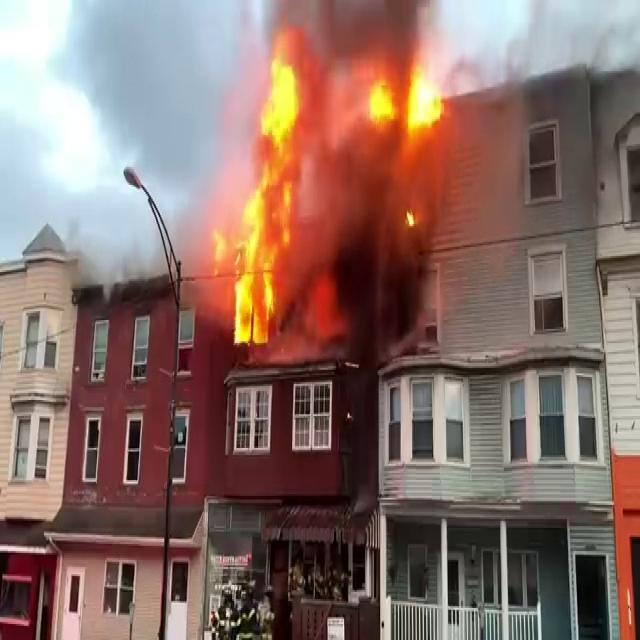Fire: (210, 39, 316, 350), (360, 50, 447, 144)
